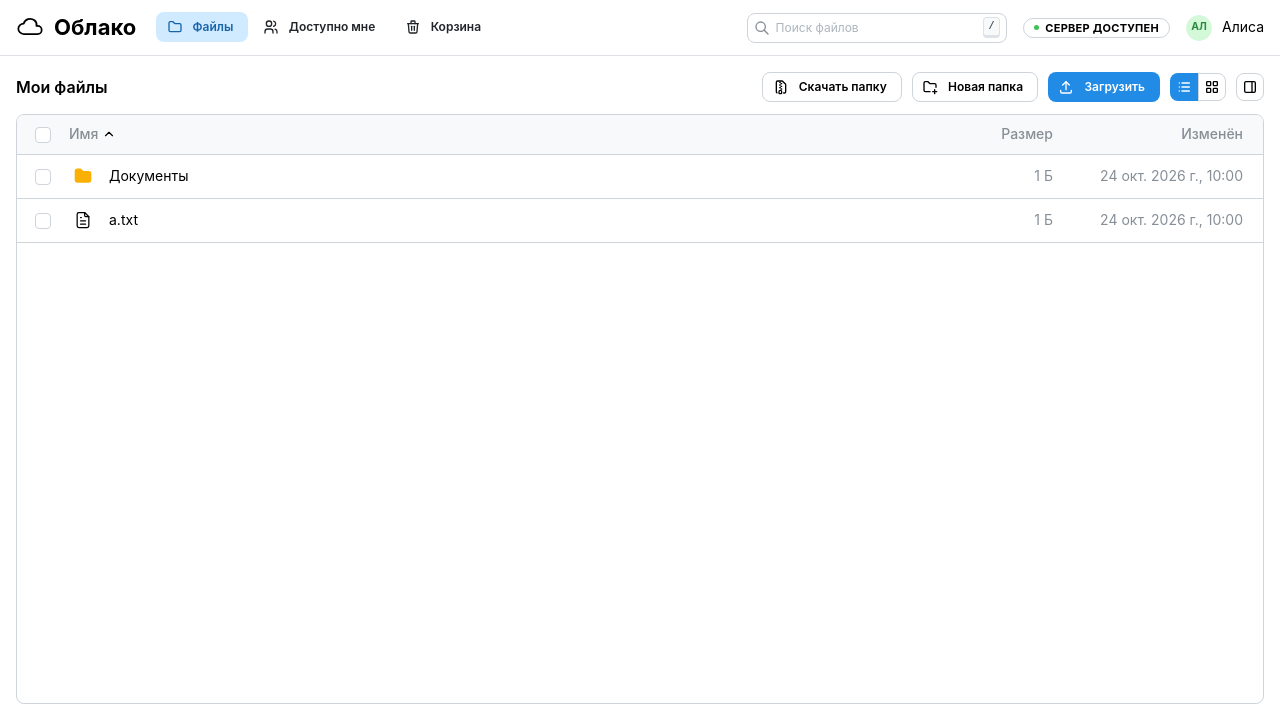
Test: copying › makes a small copy at once
The image size is (1280, 720).
Click the option that starts with "a.txt".
click(1172, 220)  # box left=17, top=199, right=1263, bottom=243
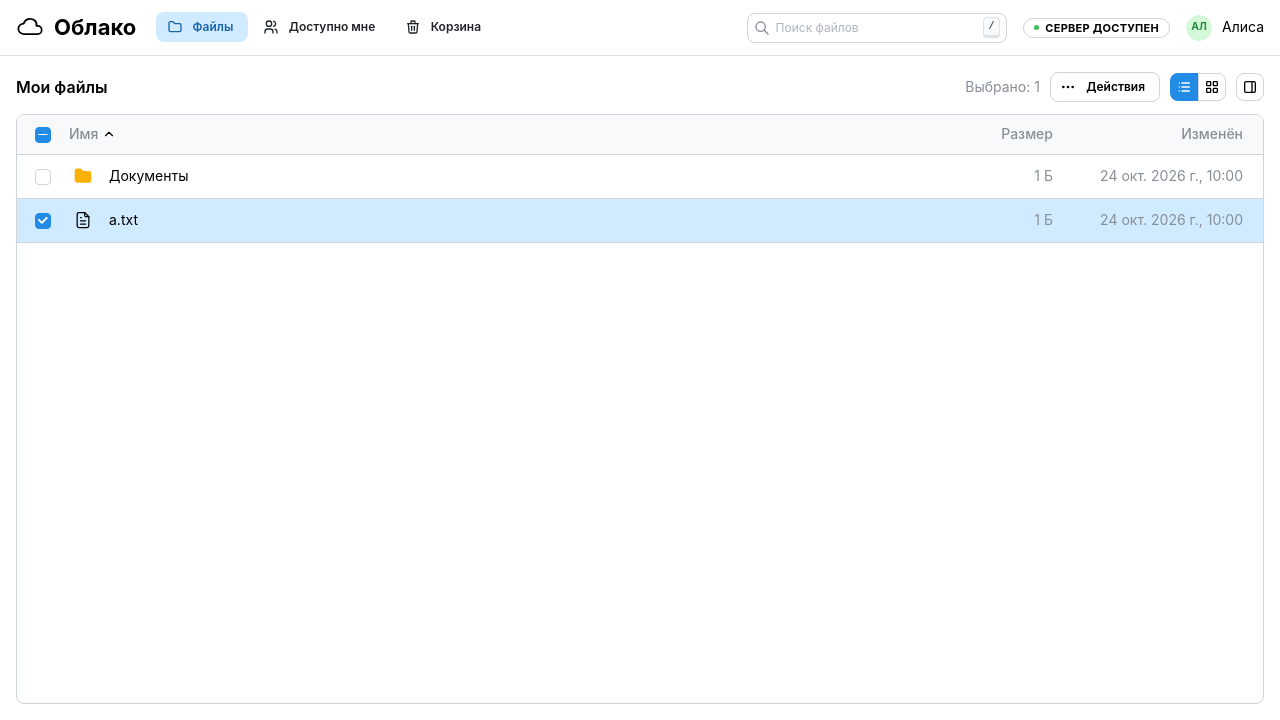
Click the button "Действия".
click(1105, 87)  # box left=1050, top=72, right=1160, bottom=102
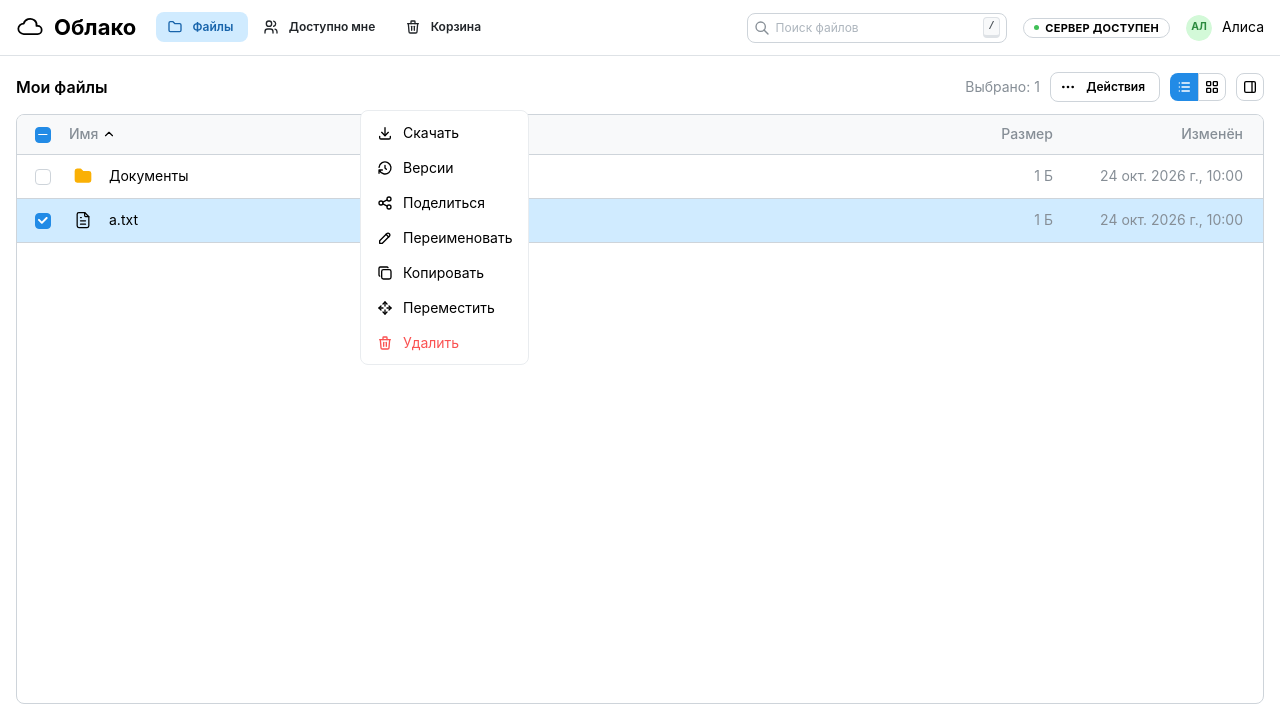
Click the menu item "Копировать".
click(445, 272)  # box left=365, top=255, right=524, bottom=290
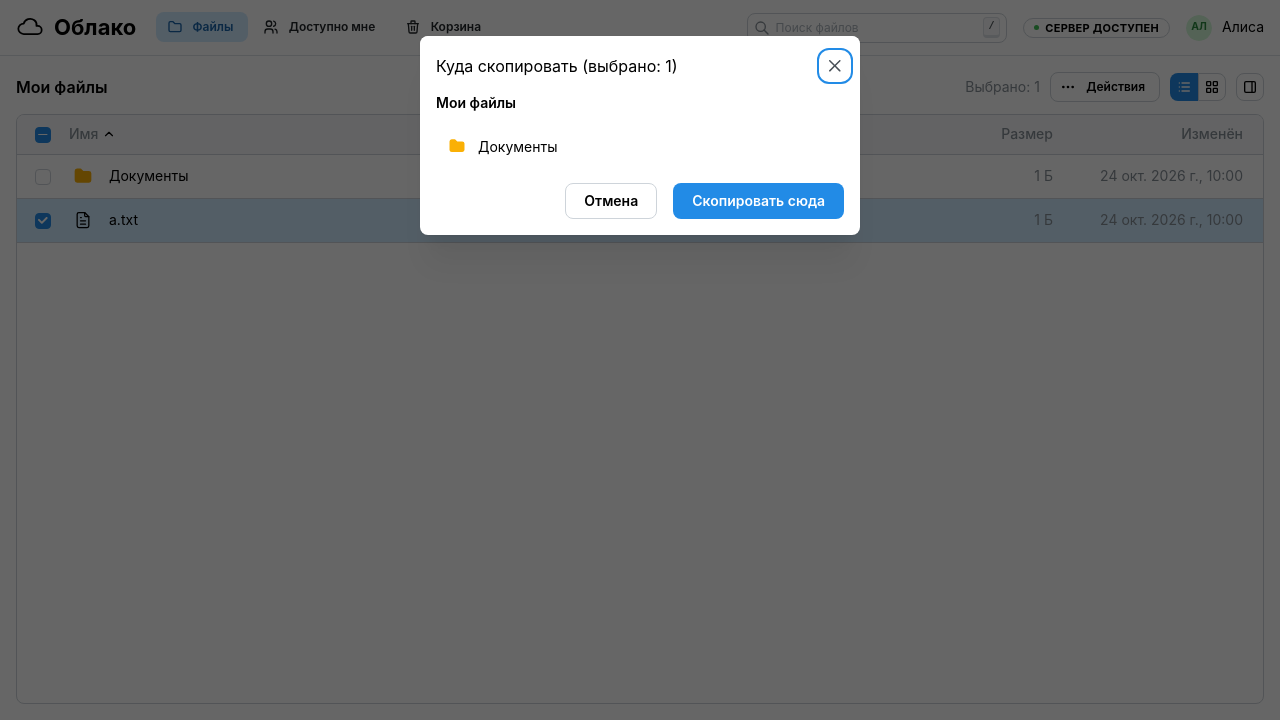
Click the button "Скопировать сюда".
click(759, 201)  # box left=673, top=183, right=844, bottom=219
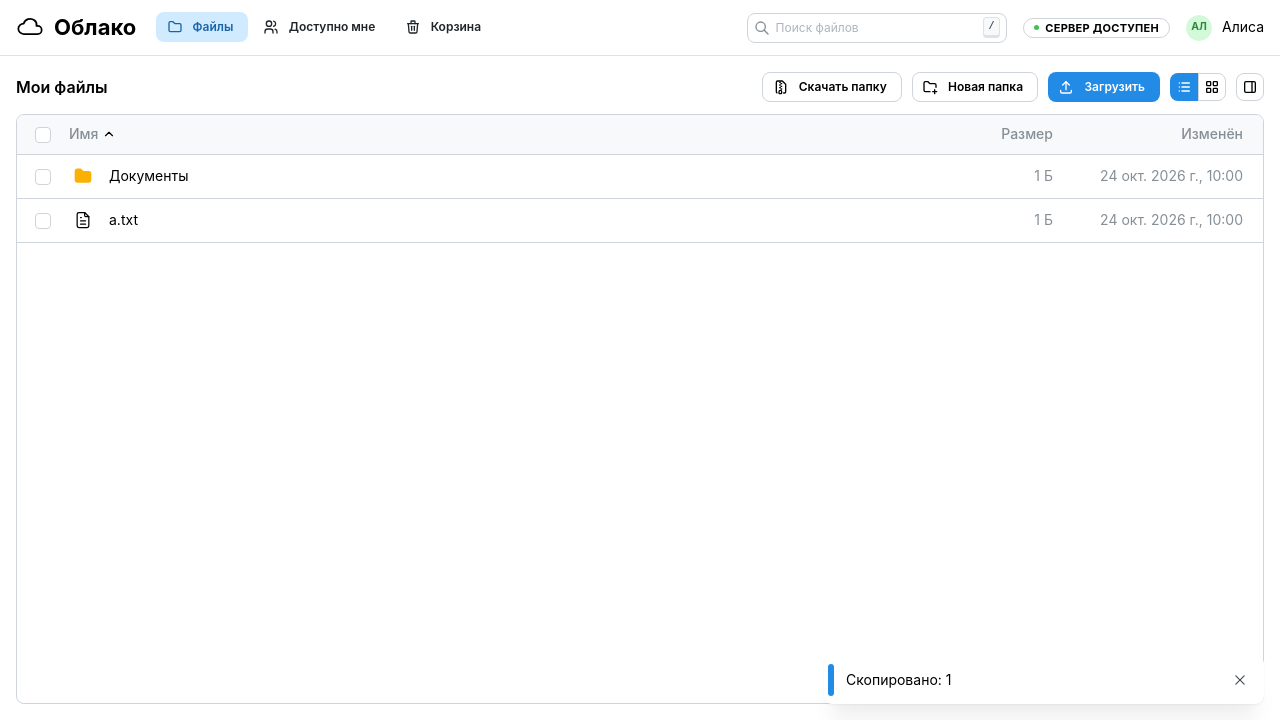
Expected: the text "Скопировано: 1" is shown, left=846, top=670, right=951, bottom=690
